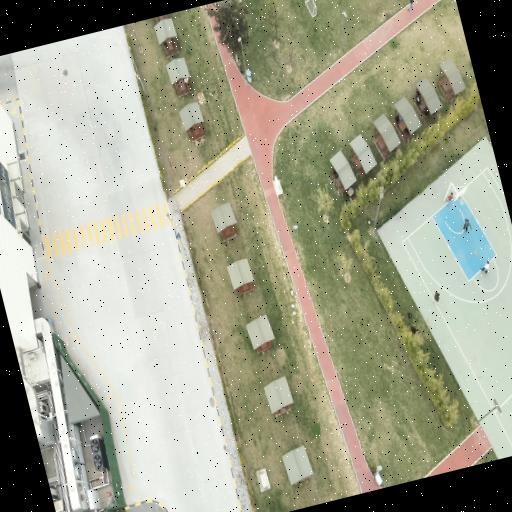person: (463, 218, 472, 232), (447, 192, 453, 206), (416, 90, 422, 104), (482, 261, 489, 273), (434, 292, 440, 304), (411, 326, 419, 334), (424, 107, 430, 116), (409, 0, 414, 10), (333, 170, 338, 178), (408, 312, 412, 319)
